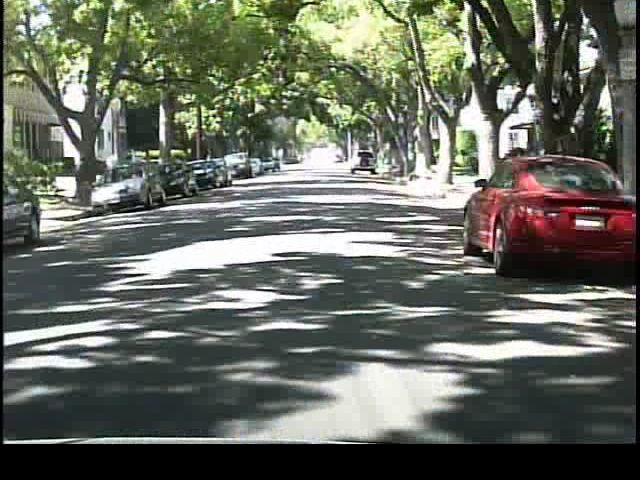person: (106, 148, 128, 198)
